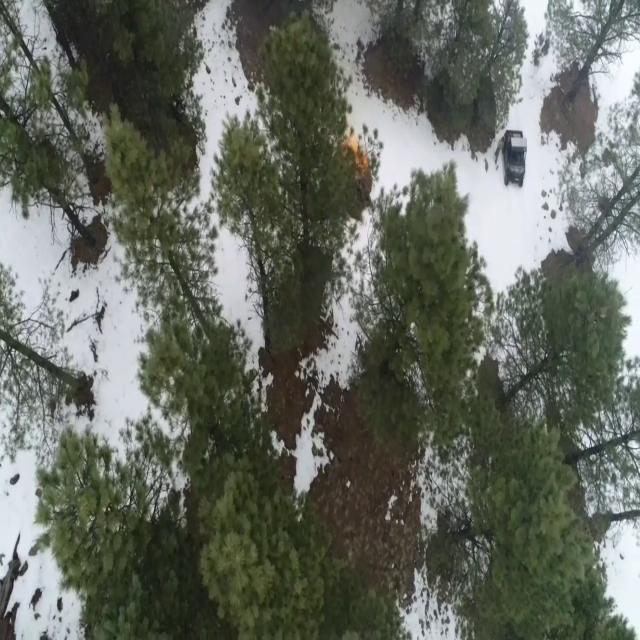fire: (346, 130, 374, 178)
